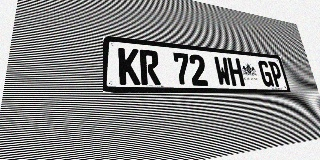2: (188, 54, 208, 86)
7: (172, 52, 192, 86)
G: (257, 60, 274, 87)
H: (227, 57, 245, 86)
K: (118, 47, 141, 85)
P: (268, 61, 284, 87)
R: (139, 49, 161, 85)
W: (213, 56, 232, 86)
